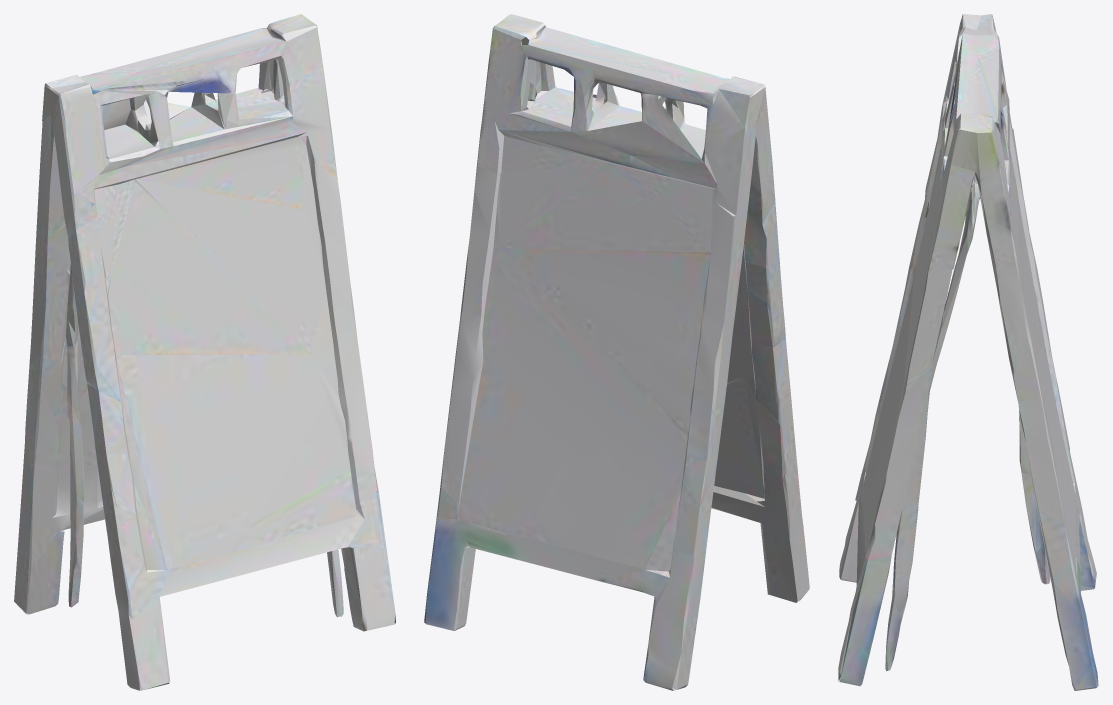
File: sign-aframe.glb
3 views of the same model, side by side, from view 1: azimuth 30°, elevation 25°; view 2: azimuth 150°, elevation 25°; view 3: azimuth 270°, elevation 25° (orthographic). The views are drawn at different scales.
Parts seen in each view (by area): view 1: Mesh_0; view 2: Mesh_0; view 3: Mesh_0.
Part boxes in pixels (left/top/right/bottom): Mesh_0: left=14, top=14, right=395, bottom=690; Mesh_0: left=424, top=14, right=809, bottom=690; Mesh_0: left=838, top=14, right=1098, bottom=690.
Bounding box in the file's own units: 0.4993 × 1 × 0.4188.
1 material, 1 textured.
